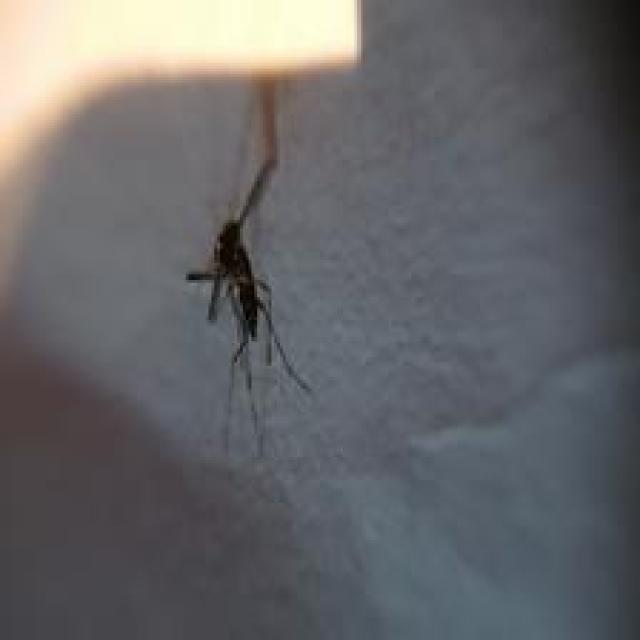Aedes albopictus: (183, 156, 314, 458)
